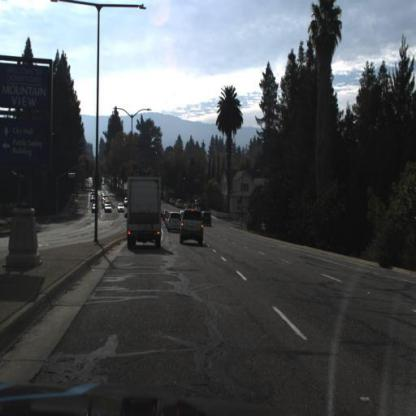car: (179, 207, 206, 247), (167, 215, 183, 233), (201, 207, 214, 228), (117, 203, 127, 215), (175, 198, 185, 210), (105, 202, 114, 214), (118, 202, 127, 214), (170, 197, 176, 208)
truck: (127, 173, 163, 249)
